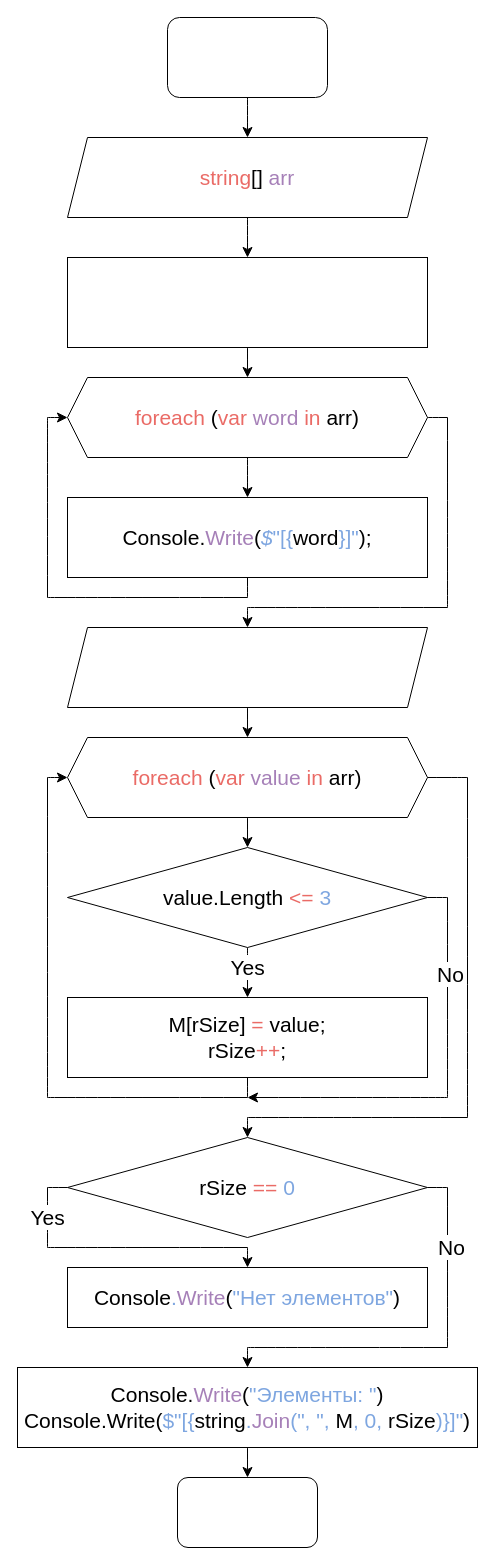
This 495x1565 diagram has some shape labels left out. Each missing label, with the centre of its shape:
End: pixel 247 1512
Start: pixel 247 57
string words = Console. ReadLine (); arr = words. Split ( ' ' );: pixel 247 302
var M = new string [arr.Length]; var rSize = 0 ;: pixel 247 667
